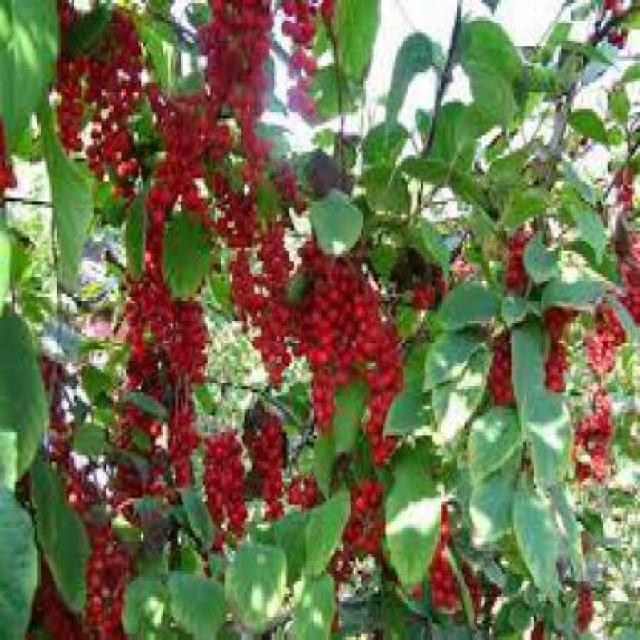RIPE: (203, 0, 269, 162), (300, 257, 362, 392), (57, 53, 126, 156), (126, 288, 208, 374), (583, 303, 615, 479), (200, 436, 243, 539), (260, 212, 285, 377), (82, 535, 122, 628), (249, 412, 282, 511), (285, 6, 314, 106), (543, 314, 571, 386), (225, 211, 248, 297)
